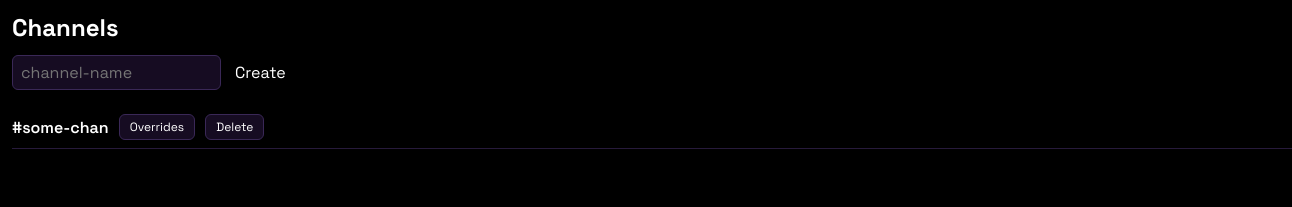
AdminChannelsSection › shows a visible error when a channel delete fails
Expected: the list item with test id "channel-c1" is shown, [12,106,1291,149]
Click the button with test id "delete-channel-c1" at [235, 127], box [205,114,264,140]
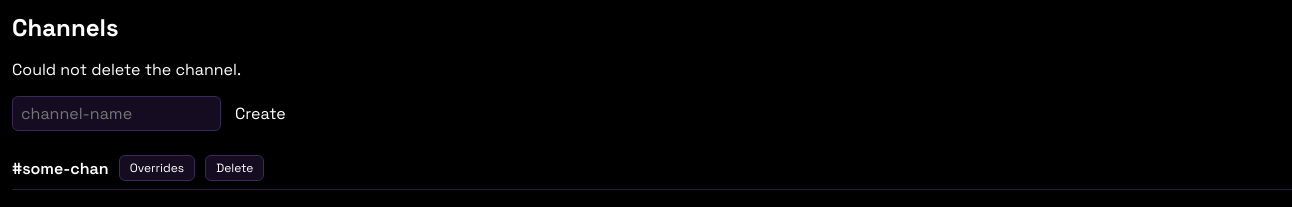
Expected: the message with test id "admin-channels-error" shows "Could not delete", [12,59,241,80]
